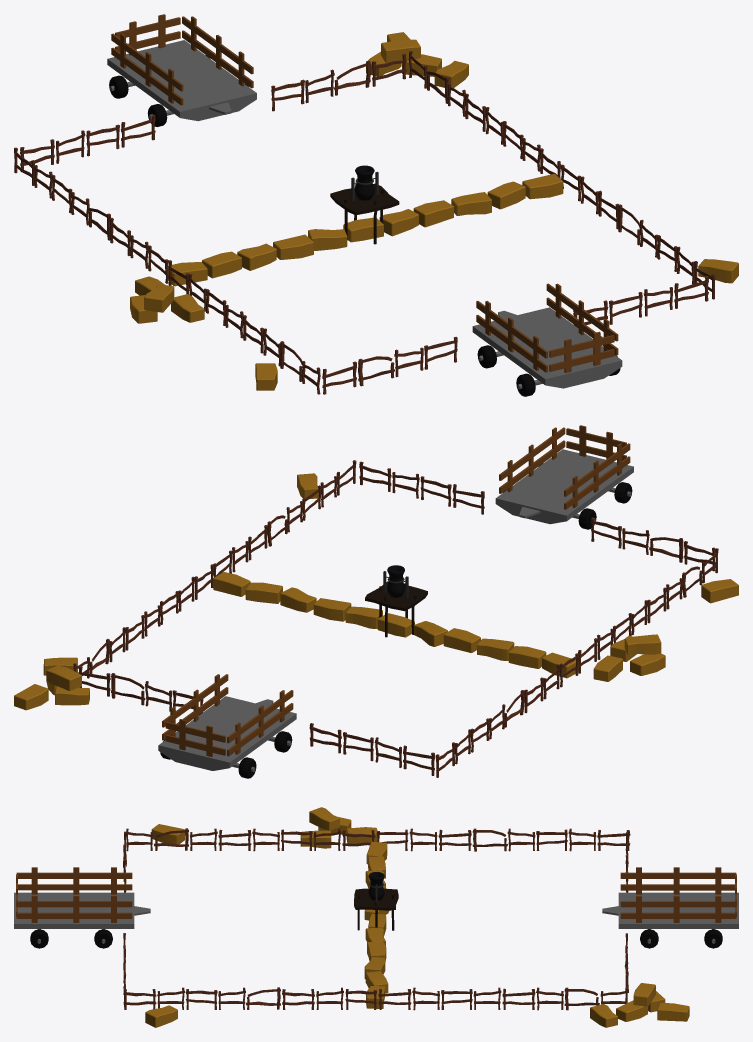
File: terrain.FBX
3 views of the same model, one above another, from view 1: azimuth 30°, elevation 25°; view 2: azimuth 150°, elevation 25°; view 3: azimuth 270°, elevation 25° (orthographic). The views are drawn at different scales.
Parts seen in each view (by area): view 1: barriere, foin, remorque, remorque2, barriereRemorque, barriereRemorque2, plateformeCanon, pneuRemorque2, pneu; view 2: foin, barriere, remorque2, remorque, barriereRemorque, barriereRemorque2, plateformeCanon, pneu, pneuRemorque2; view 3: barriere, foin, barriereRemorque, barriereRemorque2, remorque, remorque2, plateformeCanon, pneuRemorque2, pneu, canon.
Part boxes in pixels (x1,y1,x2,y2): barriere: [14, 50, 715, 394]; foin: [130, 32, 738, 390]; remorque: [107, 40, 256, 121]; remorque2: [472, 307, 622, 389]; barriereRemorque: [111, 14, 253, 105]; barriereRemorque2: [476, 283, 618, 372]; plateformeCanon: [330, 183, 399, 244]; pneuRemorque2: [477, 325, 620, 396]; pneu: [109, 55, 249, 126]; foin: [14, 473, 738, 710]; barriere: [73, 460, 718, 777]; remorque2: [495, 449, 633, 524]; remorque: [158, 696, 296, 771]; barriereRemorque: [162, 674, 293, 756]; barriereRemorque2: [499, 425, 630, 509]; plateformeCanon: [365, 581, 427, 637]; pneu: [160, 712, 292, 778]; pneuRemorque2: [503, 463, 632, 529]; barriere: [123, 828, 630, 1010]; foin: [145, 807, 689, 1027]; barriereRemorque: [620, 867, 736, 922]; barriereRemorque2: [16, 867, 132, 922]; remorque: [602, 892, 738, 943]; remorque2: [14, 892, 150, 943]; plateformeCanon: [354, 888, 398, 930]; pneuRemorque2: [30, 929, 112, 948]; pneu: [640, 929, 722, 948]; canon: [368, 872, 384, 900].
Size of what is drawn, in the model's own units: 451 by 57.99 by 682.
